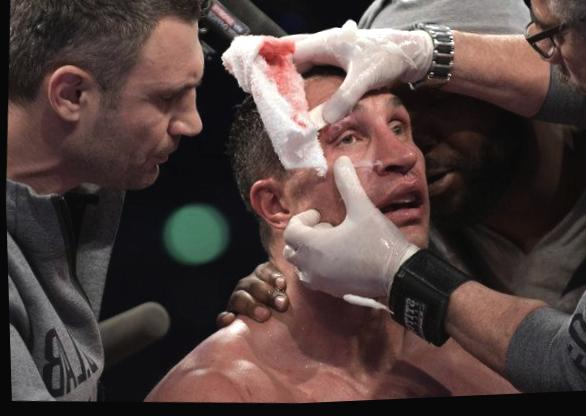Fire: (222, 38, 309, 132)
